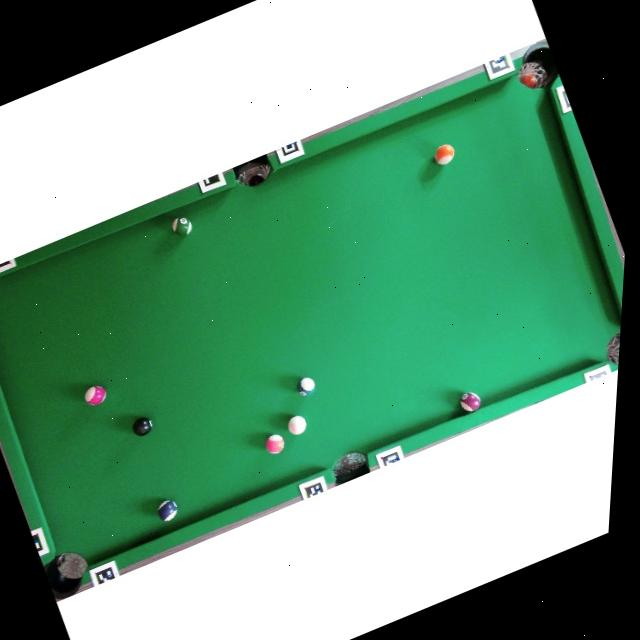cue ball: (284, 412, 310, 438)
other: (152, 495, 184, 525), (428, 140, 460, 168), (456, 387, 486, 415), (80, 382, 110, 409), (167, 212, 195, 239), (260, 431, 288, 456), (292, 373, 318, 398), (129, 414, 156, 438)
